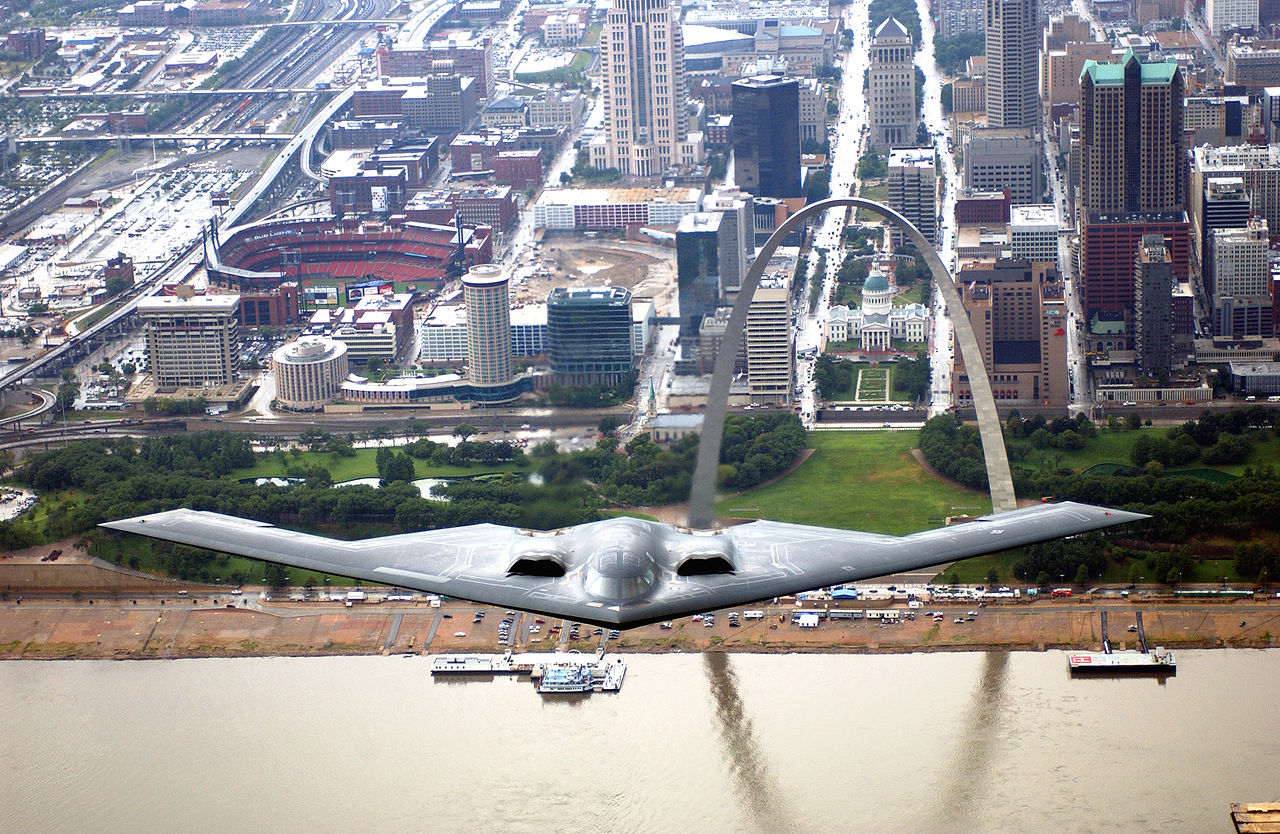B2: (93, 499, 1155, 630)
